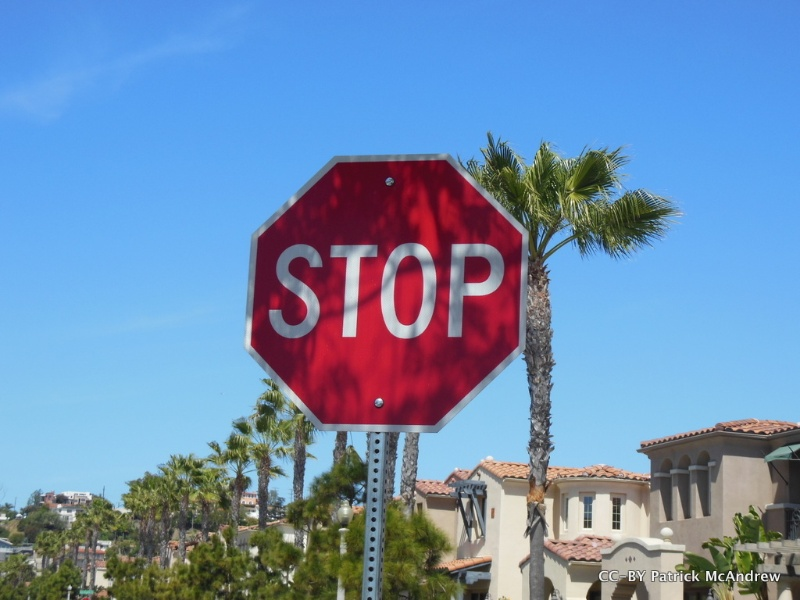stop: (239, 149, 532, 435)
